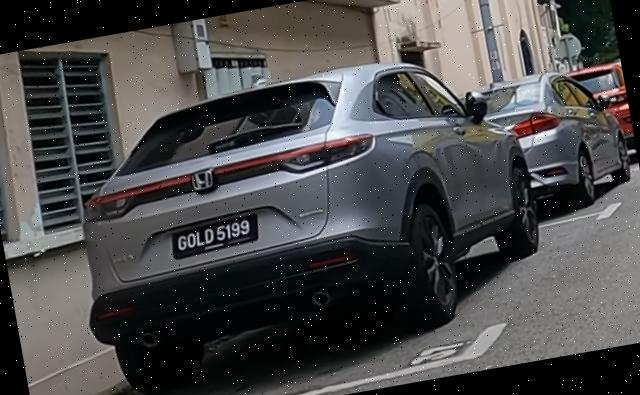License_Plate: (167, 211, 263, 260)
car: (52, 37, 558, 395), (463, 60, 636, 221)
